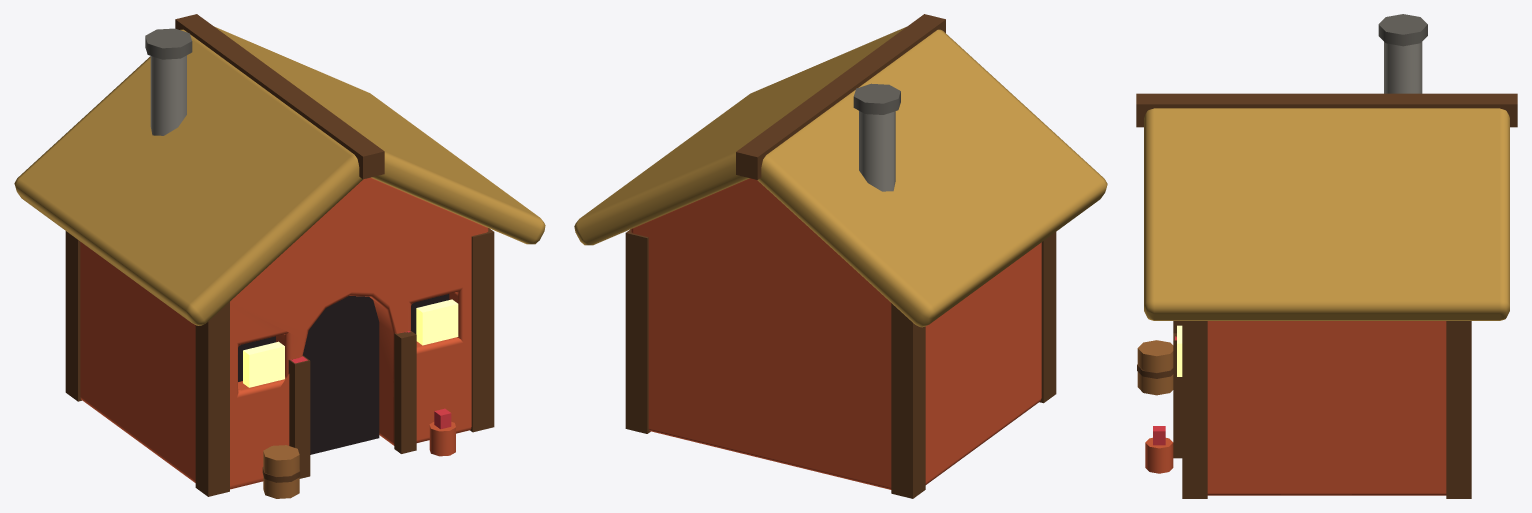
File: Buildings__hut.glb
3 views of the same model, side by side, from view 1: azimuth 30°, elevation 25°; view 2: azimuth 150°, elevation 25°; view 3: azimuth 270°, elevation 25° (orthographic).
Visible parts, largest first — view 1: hut_mesh; view 2: hut_mesh; view 3: hut_mesh.
Part boxes in pixels (left/top/right/bottom): hut_mesh: left=14, top=14, right=545, bottom=498; hut_mesh: left=574, top=14, right=1107, bottom=498; hut_mesh: left=1136, top=14, right=1517, bottom=498.
Bounding box in the file's own units: 1.65 × 1.6 × 1.5.
